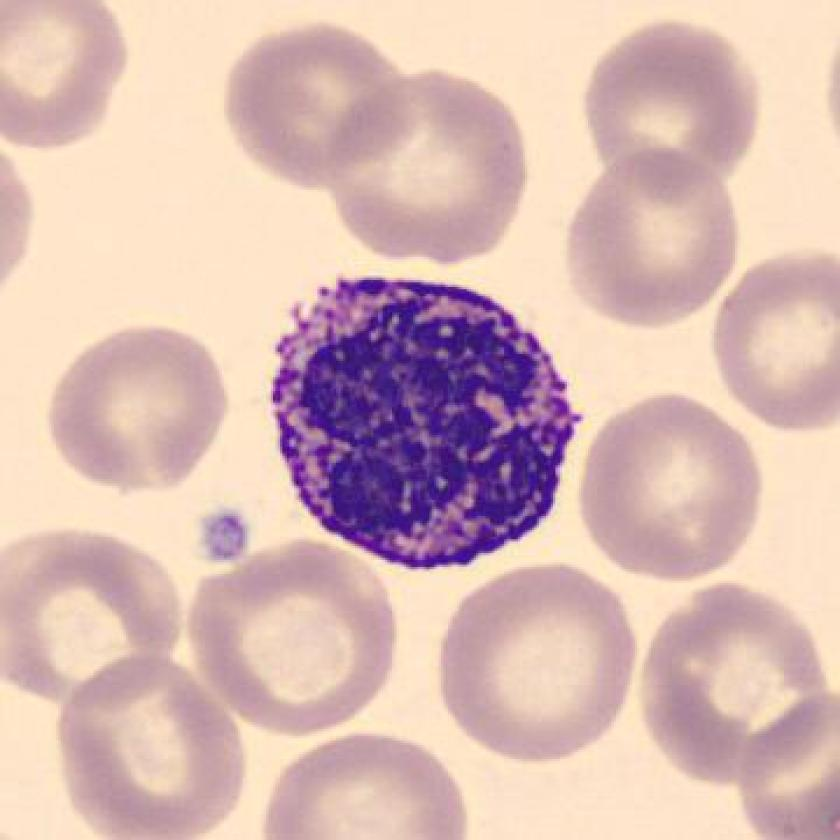basophil: (260, 258, 577, 577)
